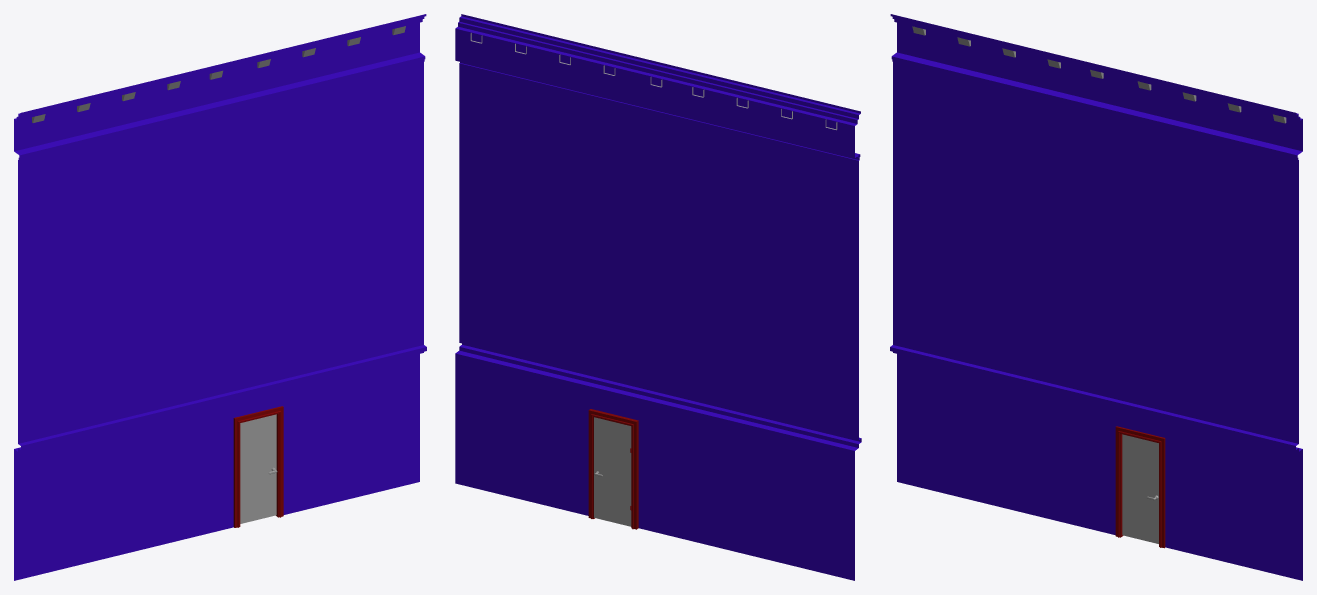
Rendered from Prop_WallExtDoor_02.fbx.
3 views of the same model, side by side, from view 1: azimuth 30°, elevation 25°; view 2: azimuth 150°, elevation 25°; view 3: azimuth 330°, elevation 25° (orthographic).
Parts seen in each view (by area): view 1: PropWallExtDoor_02, Door, Door_Frame; view 2: PropWallExtDoor_02, Door, Door_Frame; view 3: PropWallExtDoor_02, Door, Door_Frame.
Boxes of the visible parts, x1=… form: PropWallExtDoor_02: x1=14, y1=14, x2=426, y2=580; Door: x1=240, y1=414, x2=276, y2=523; Door_Frame: x1=233, y1=406, x2=283, y2=527; PropWallExtDoor_02: x1=455, y1=14, x2=861, y2=580; Door: x1=594, y1=417, x2=631, y2=526; Door_Frame: x1=588, y1=409, x2=638, y2=529; PropWallExtDoor_02: x1=890, y1=14, x2=1302, y2=580; Door: x1=1122, y1=434, x2=1158, y2=543; Door_Frame: x1=1115, y1=426, x2=1165, y2=548.
Size of the model in its own units: 901 by 1002 by 42.99.
